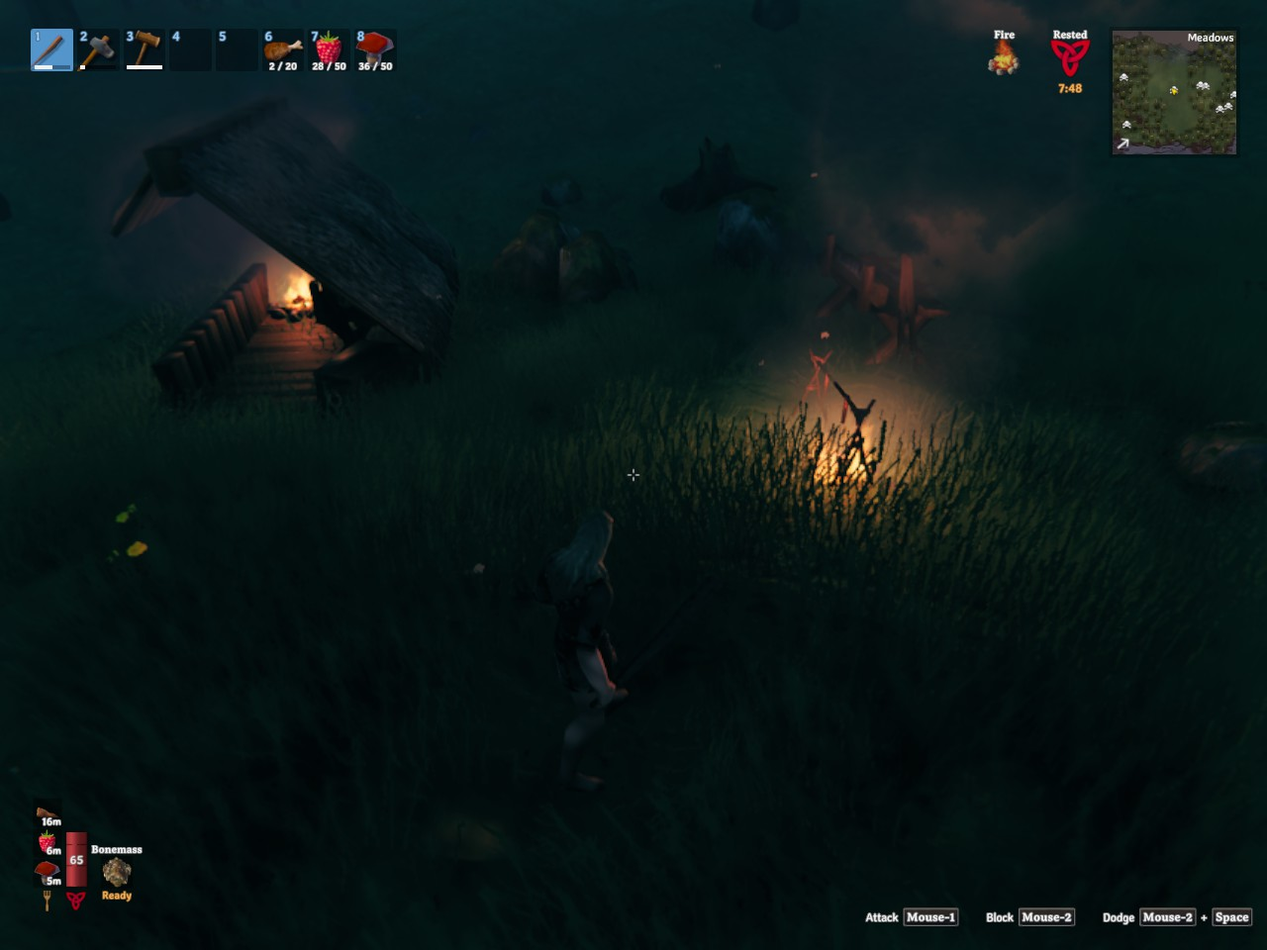Cook Station: (778, 359, 882, 471)
House: (111, 98, 469, 388)
Workbench: (805, 240, 953, 362)
